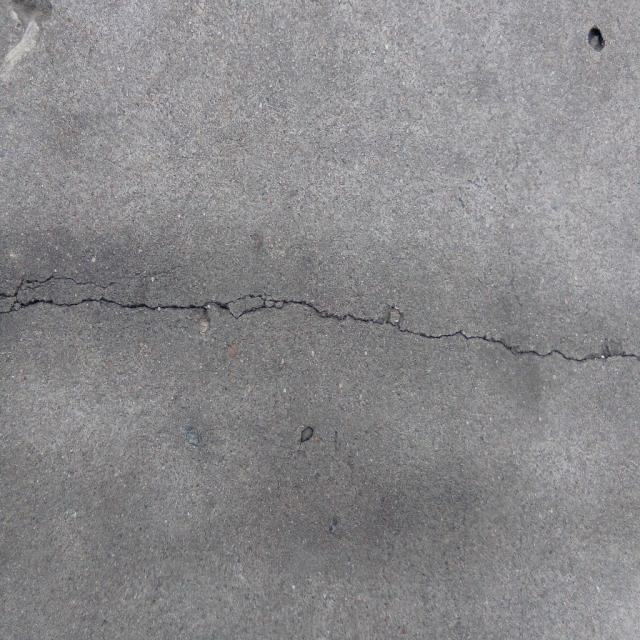cracks: (3, 284, 640, 371)
